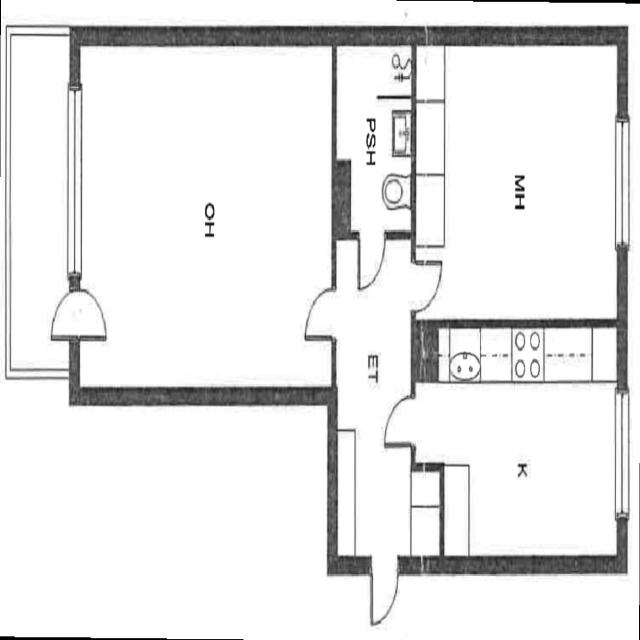door: (46, 277, 114, 341), (295, 276, 340, 348), (365, 553, 403, 631), (378, 386, 420, 455), (406, 248, 447, 314), (353, 227, 390, 297)
window: (609, 105, 635, 258), (64, 80, 82, 285), (612, 375, 632, 525)
zone: (73, 42, 344, 394), (412, 38, 628, 329), (424, 330, 625, 569), (335, 36, 415, 235)
